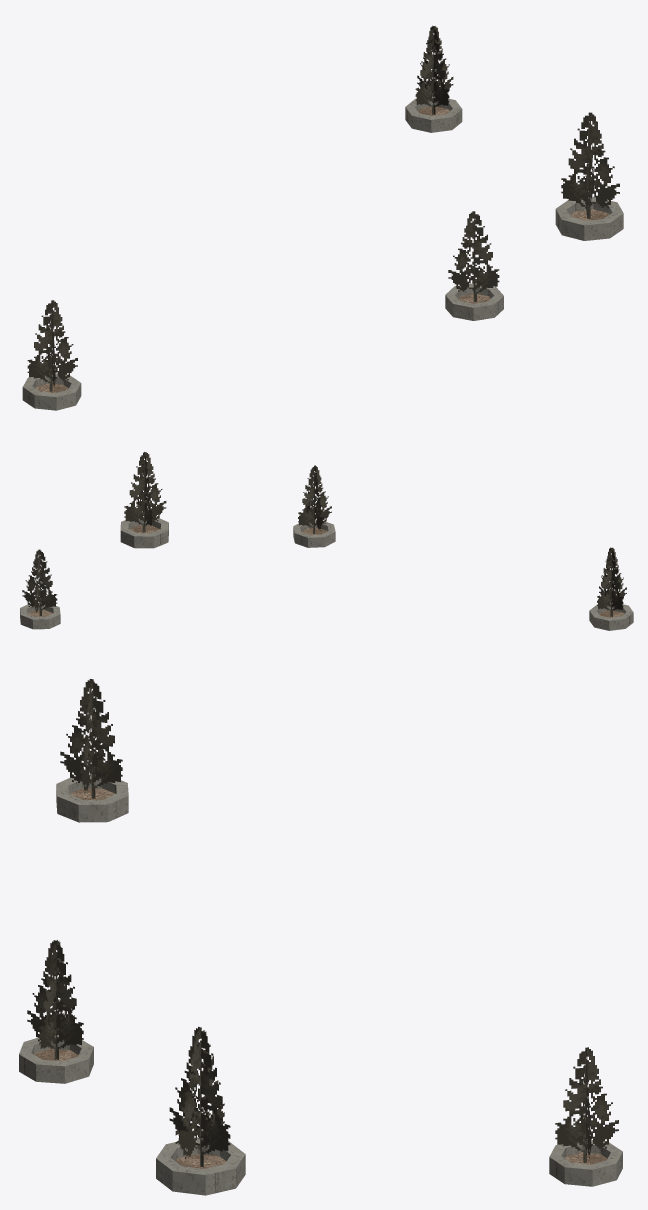
File: procgen-procpain-tree-park-pine-large-x1z1.obj
3 renders of one model, top to bottom at view 1: azimuth 30°, elevation 25°; view 2: azimuth 150°, elevation 25°; view 3: azimuth 270°, elevation 25°, orthographic. The views are drawn at different scales.
Bounding box in the file's own units: 61.69 × 10.5 × 39.56.
